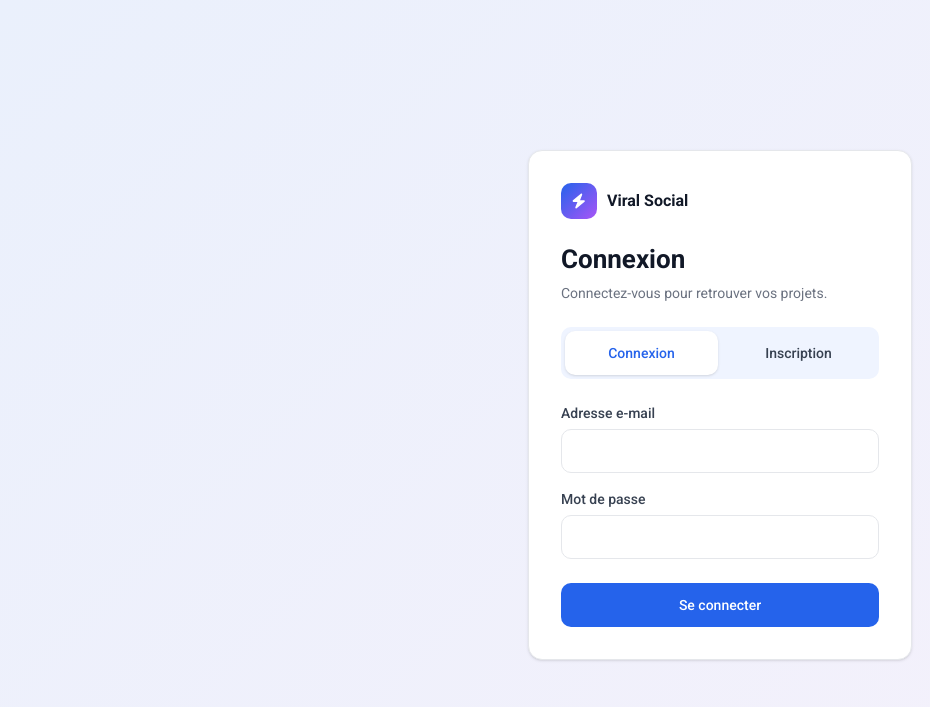
Test: Login › affiche telle quelle une erreur de l'API sans champ (identifiants invalides)
The image size is (930, 707).
In the field labelled "Adresse e-mail": (720, 451) [561,429,879,473], type "awa@example.com"
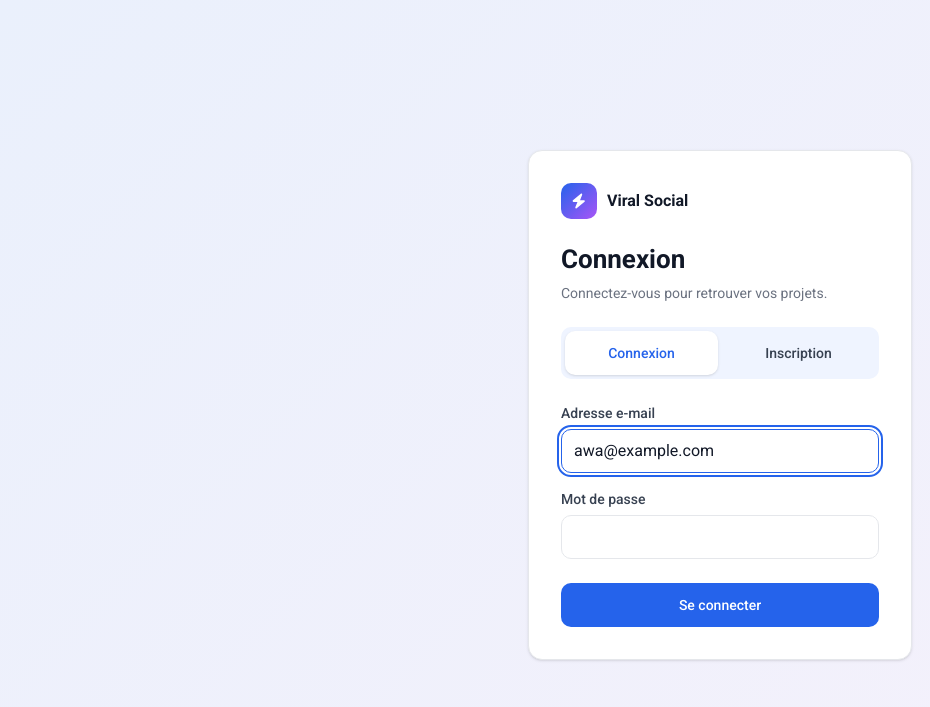
In the password field labelled "Mot de passe": (720, 537) [561,515,879,559], type "mauvais"
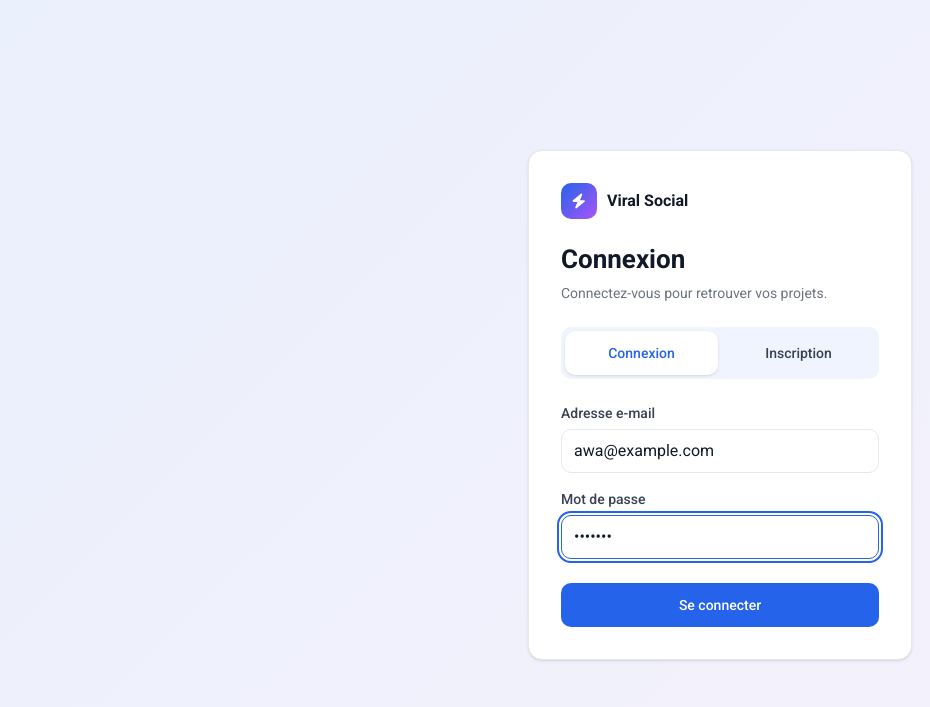
Click the button "Se connecter": (720, 605) [561,583,879,627]
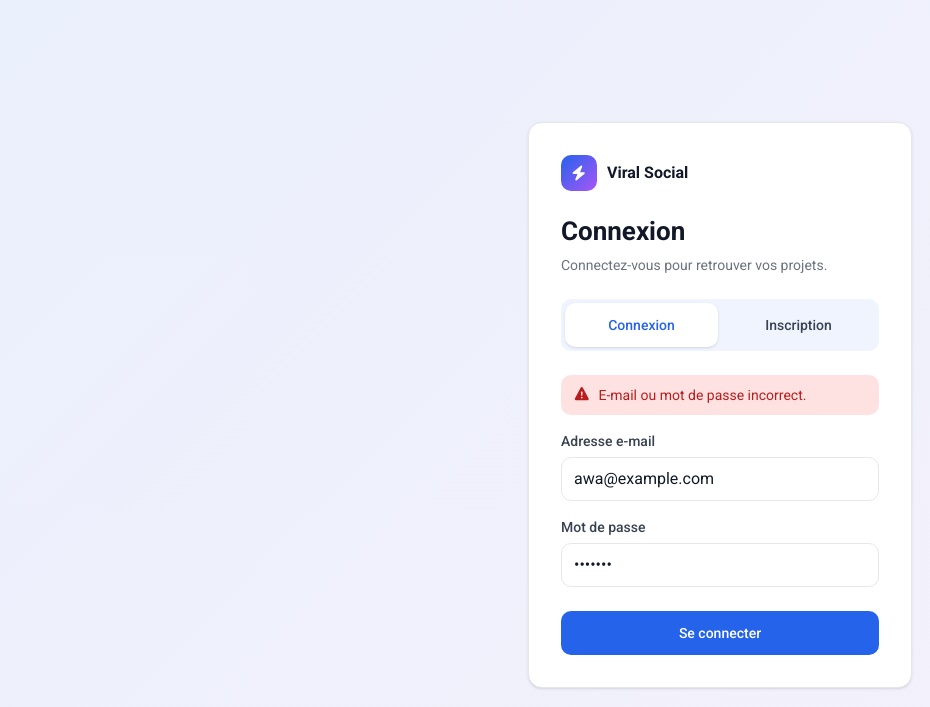
Expected: the message reads "E-mail ou mot de passe incorrect.", [598,387,806,403]
